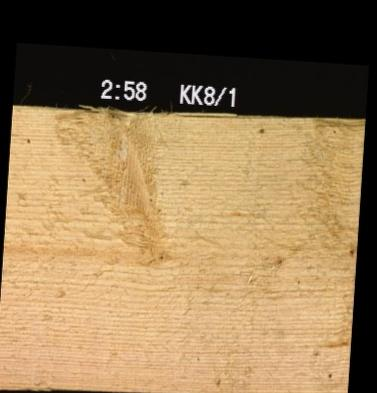small_knot: (256, 125, 263, 134), (346, 246, 353, 255)
